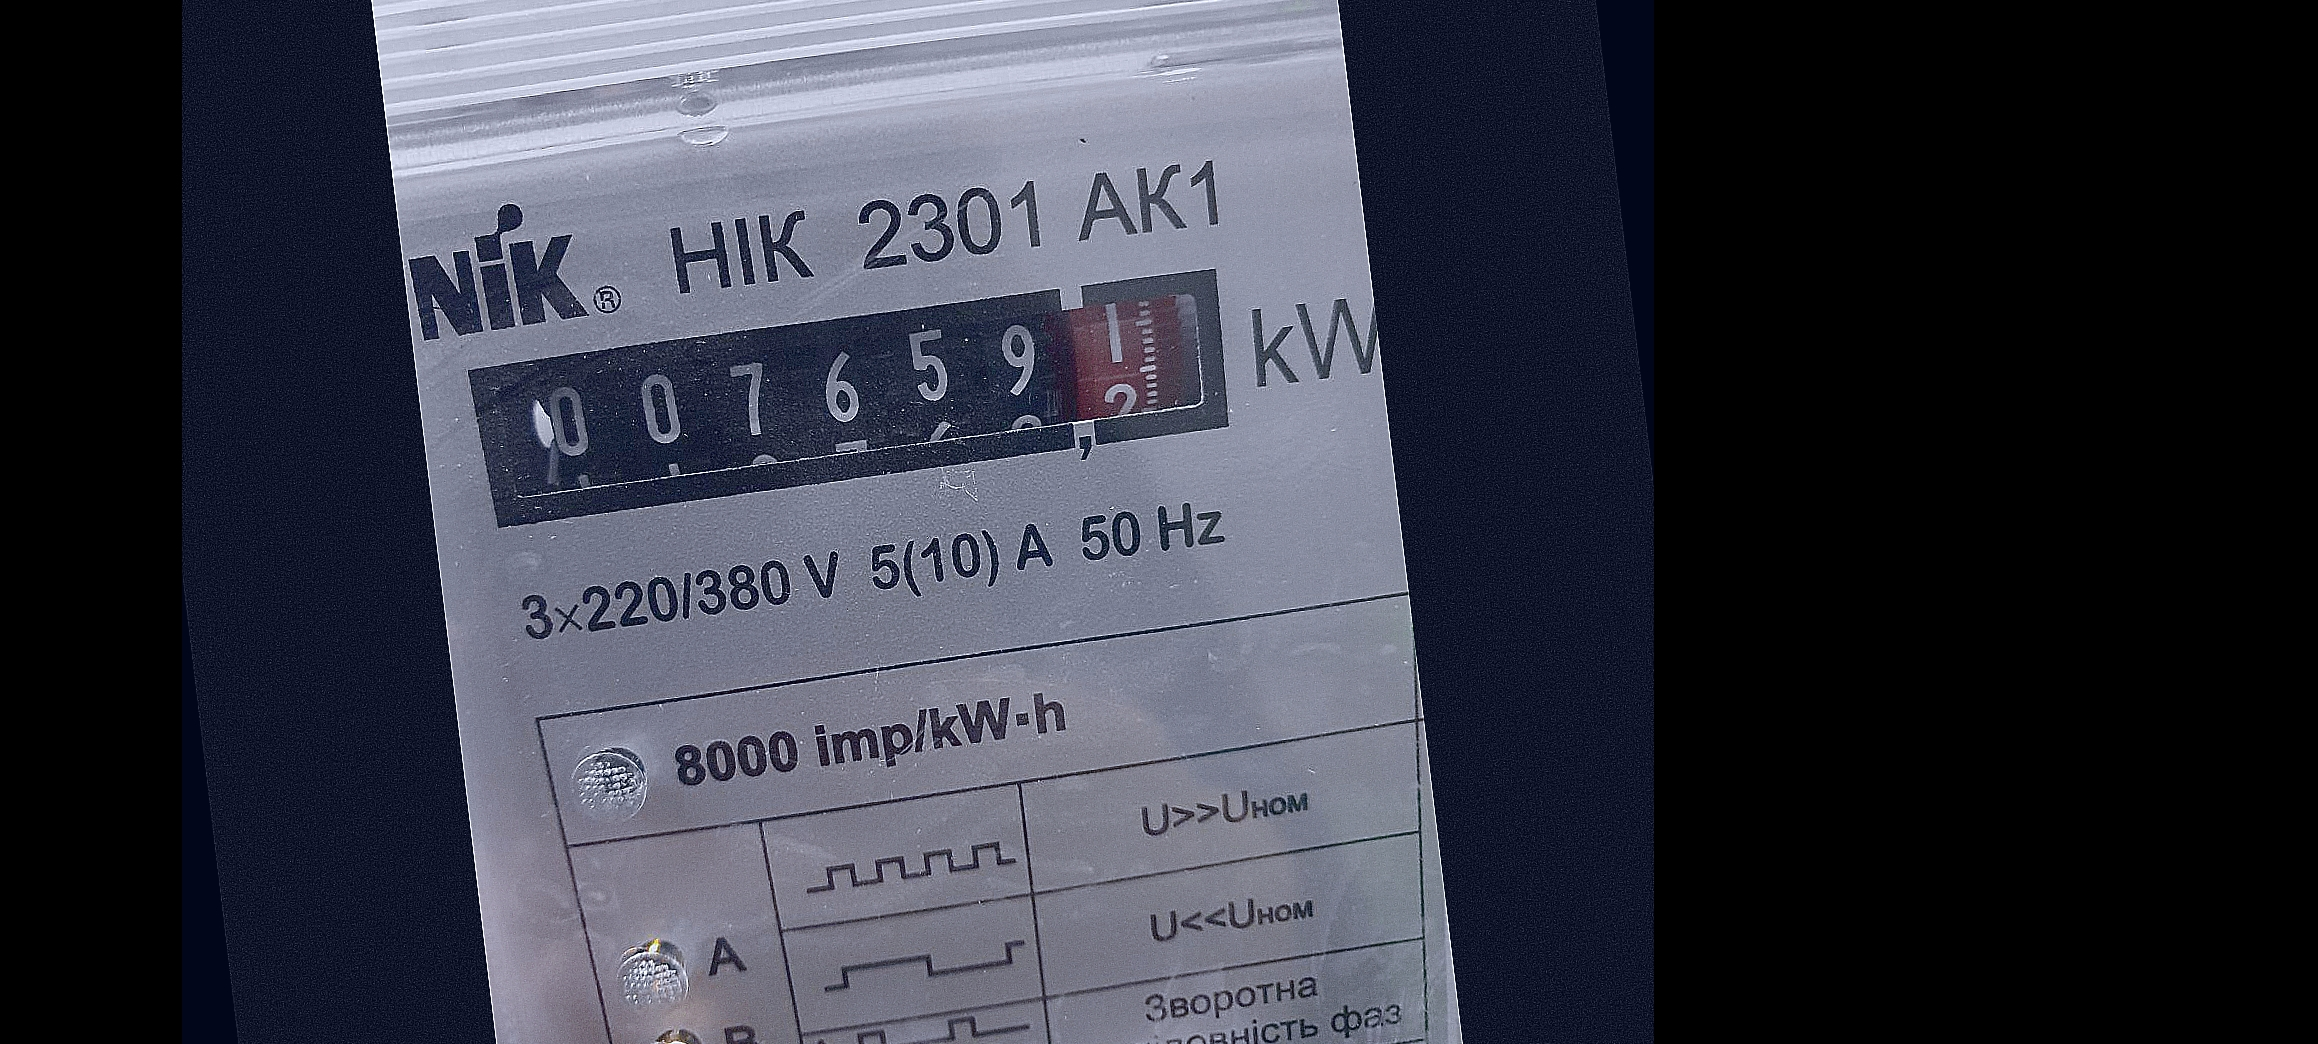0: (625, 361, 692, 452), (540, 373, 599, 467)
1: (1095, 293, 1138, 373)
5: (900, 321, 956, 408)
6: (810, 340, 871, 429)
7: (724, 353, 775, 444)
9: (993, 313, 1047, 407)
screen: (445, 244, 1260, 552)
